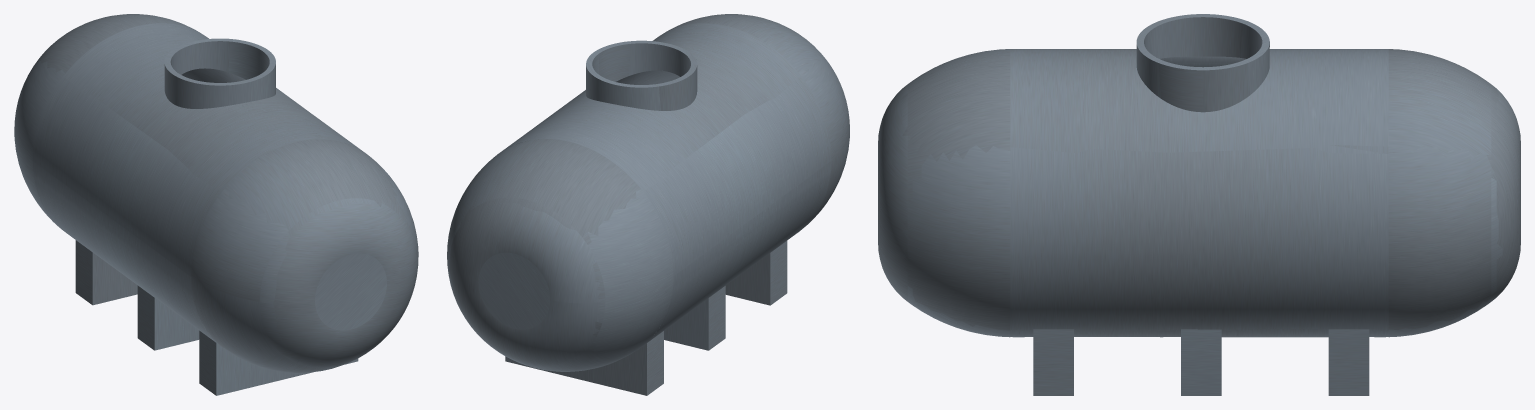
File: Tanque.glb
The picture shows the model from 3 angles, left to right: view 1: azimuth 30°, elevation 25°; view 2: azimuth 150°, elevation 25°; view 3: azimuth 270°, elevation 25°; orthographic projection. The views are drawn at different scales.
Parts seen in each view (by area): view 1: Body1; view 2: Body1; view 3: Body1.
Part boxes in pixels (<box>): Body1: <box>14,14,418,395</box>; Body1: <box>447,14,849,395</box>; Body1: <box>878,14,1520,395</box>.
Size of the model in its own units: 3.38 by 4.07 by 7.53.
Materials: 1 (1 with a texture image).
